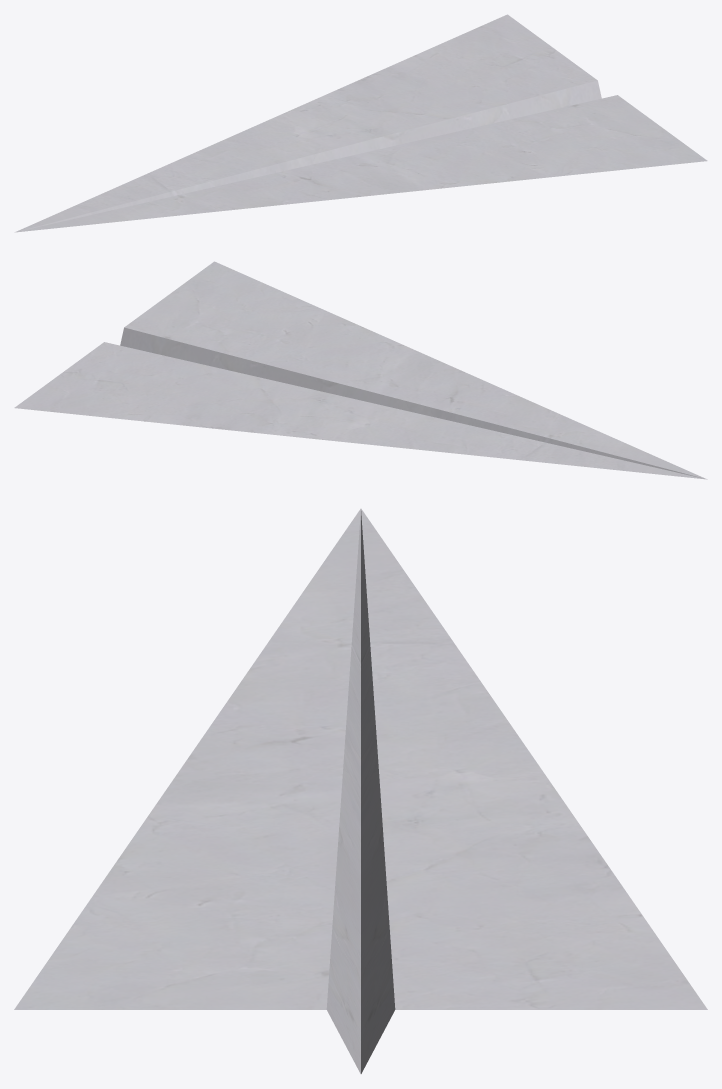
3 renders of one model, top to bottom at view 1: azimuth 30°, elevation 25°; view 2: azimuth 150°, elevation 25°; view 3: azimuth 270°, elevation 25°, orthographic. The views are drawn at different scales.
Parts seen in each view (by area): view 1: Plane; view 2: Plane; view 3: Plane.
Boxes of the visible parts, x1=… form: Plane: x1=14, y1=14, x2=707, y2=232; Plane: x1=14, y1=261, x2=707, y2=479; Plane: x1=14, y1=508, x2=707, y2=1073.
Bounding box in the file's own units: 2 × 0.1207 × 1.17.
Materials: 1 (1 with a texture image).
